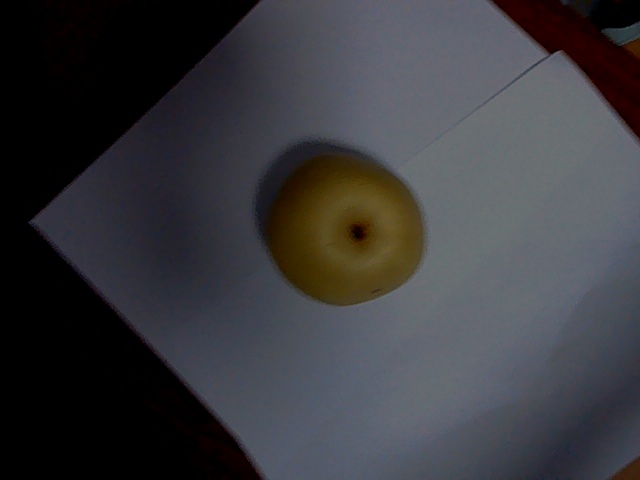pear: (272, 156, 429, 307)
